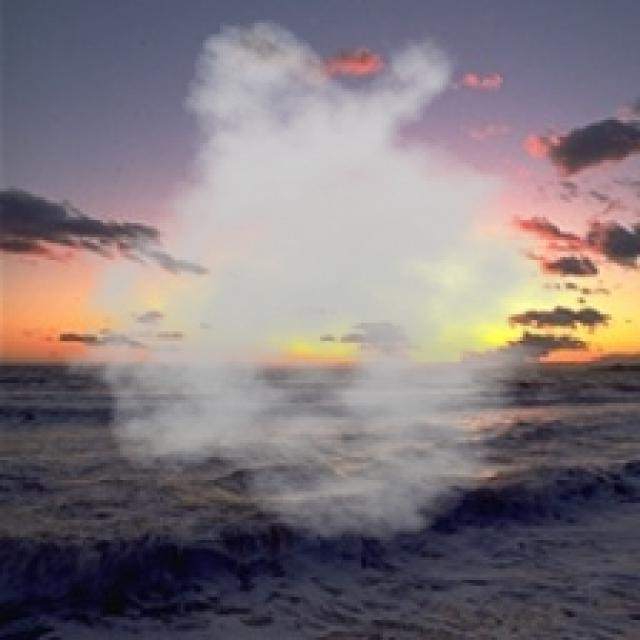smoke: (48, 17, 603, 543)
